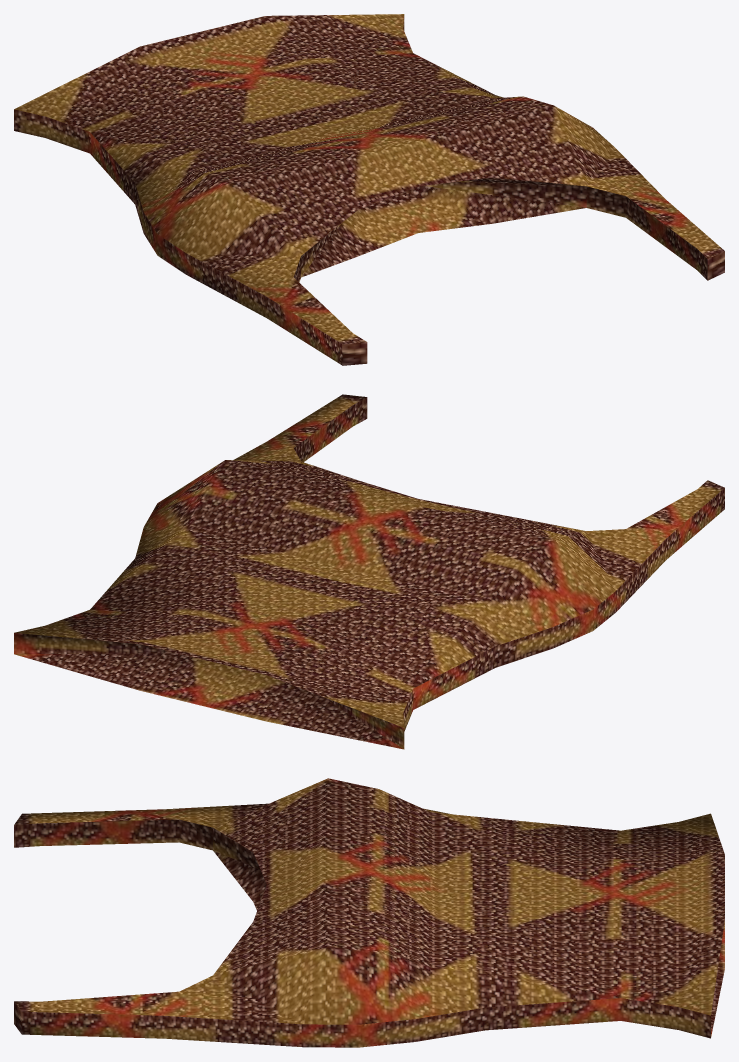
File: tanktop.gltf
3 views of the same model, one above another, from view 1: azimuth 30°, elevation 25°; view 2: azimuth 150°, elevation 25°; view 3: azimuth 270°, elevation 25° (orthographic). The views are drawn at different scales.
Parts seen in each view (by area): view 1: TankTop; view 2: TankTop; view 3: TankTop.
Boxes of the visible parts, x1,y1,x2,y2 form: TankTop: (14, 14, 724, 365); TankTop: (14, 394, 724, 749); TankTop: (14, 778, 724, 1047).
Bounding box in the file's own units: 0.3618 × 0.0554 × 0.4818.
4 materials, 4 textured.
